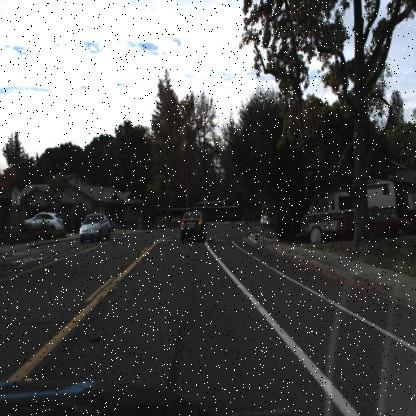car: (296, 176, 400, 244), (346, 209, 412, 238), (76, 213, 112, 242), (24, 209, 64, 234), (182, 210, 206, 243)
truck: (301, 182, 395, 244)
